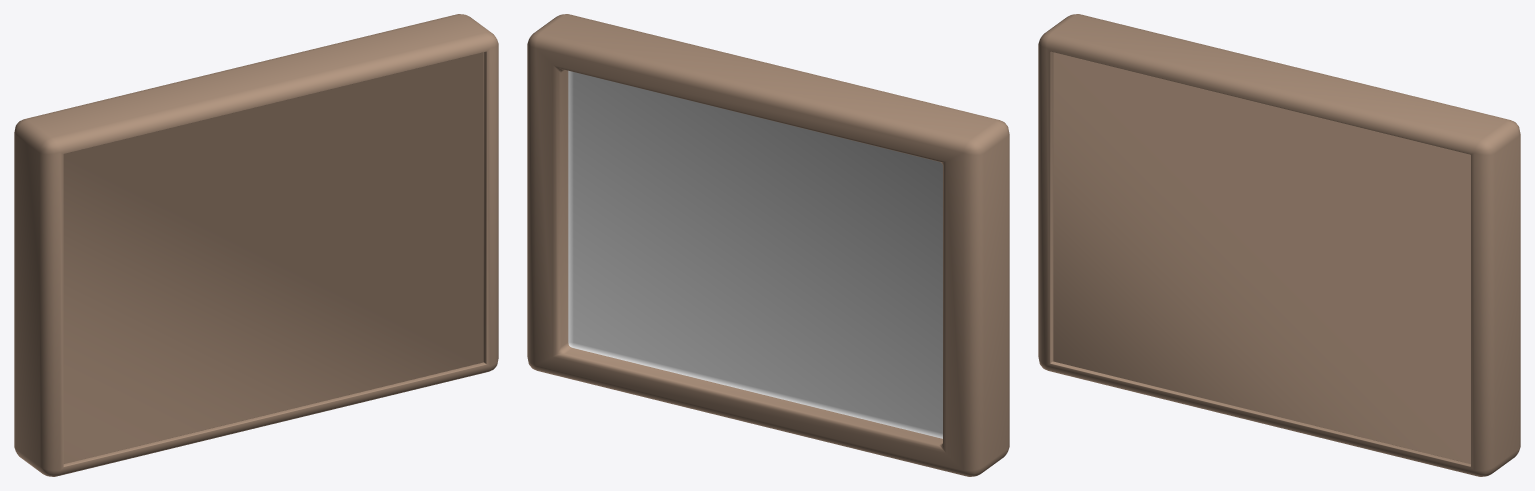
The model's file is photoframe.fbx.
3 renders of one model, left to right at view 1: azimuth 30°, elevation 25°; view 2: azimuth 150°, elevation 25°; view 3: azimuth 330°, elevation 25°, orthographic.
Visible parts, largest first — view 1: 액자2; view 2: 액자2; view 3: 액자2.
Part boxes in pixels (x1,y1,x2,y2): 액자2: (14,14,498,476); 액자2: (527,14,1009,476); 액자2: (1038,14,1520,476).
Bounding box in the file's own units: 520 × 368 × 75.93.
